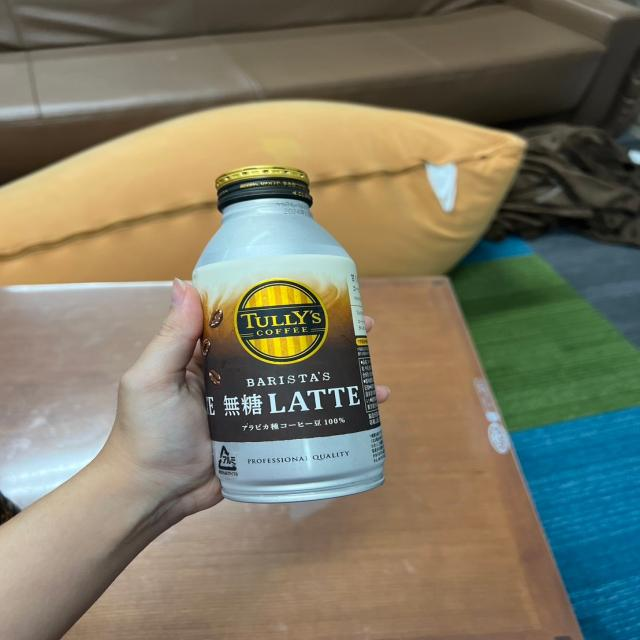coffee-latte: (196, 161, 392, 510)
